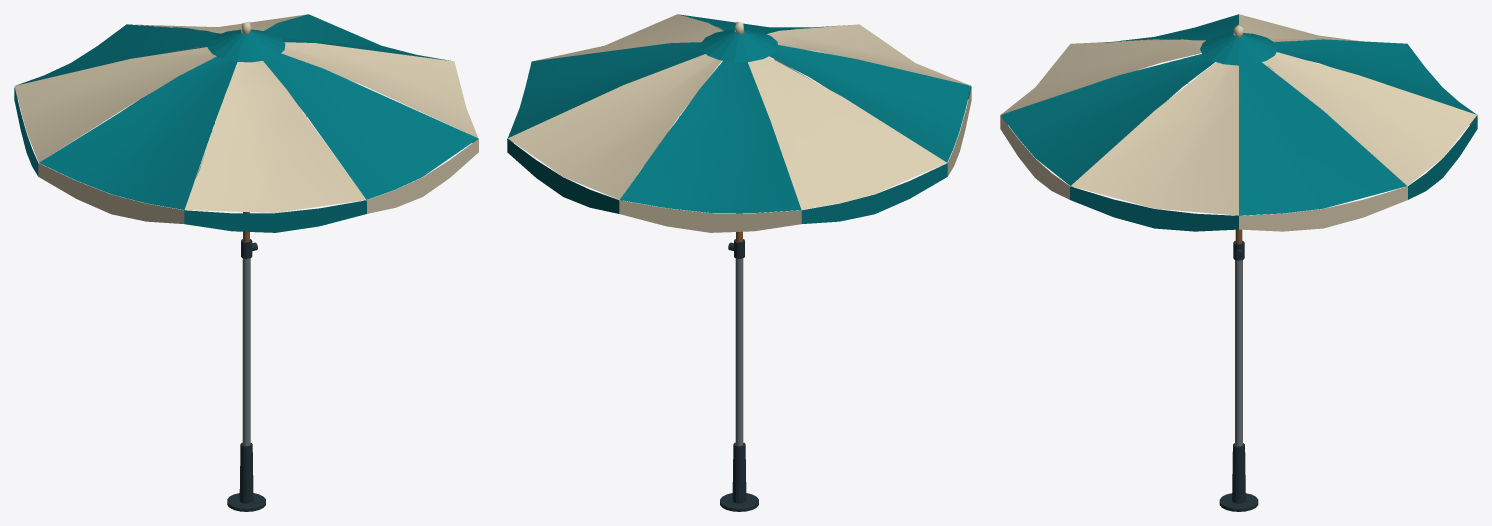
Rendered from beachUmbrellaTeal.glb.
3 views of the same model, side by side, from view 1: azimuth 30°, elevation 25°; view 2: azimuth 150°, elevation 25°; view 3: azimuth 270°, elevation 25° (orthographic).
Visible parts, largest first — view 1: beachUmbrellaTeal; view 2: beachUmbrellaTeal; view 3: beachUmbrellaTeal.
Part boxes in pixels (x1,y1,x2,y2): beachUmbrellaTeal: (14,14,478,511); beachUmbrellaTeal: (507,14,971,511); beachUmbrellaTeal: (1000,14,1477,511).
Size of the model in its own units: 2.2 by 2.43 by 2.2.
